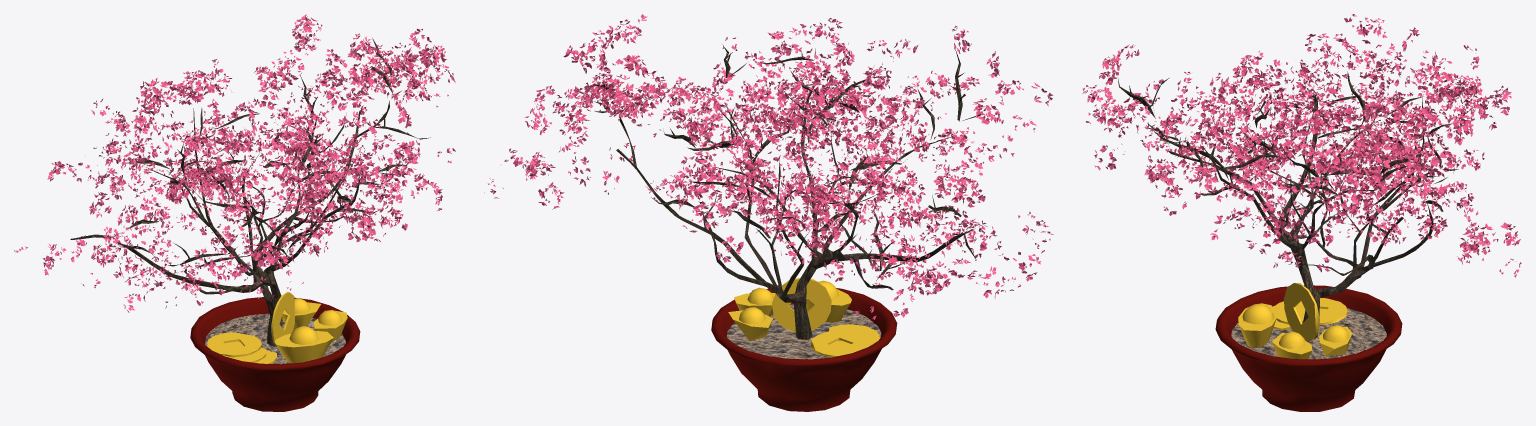
File: cay dao.fbx
3 renders of one model, left to right at view 1: azimuth 30°, elevation 25°; view 2: azimuth 150°, elevation 25°; view 3: azimuth 270°, elevation 25°, orthographic. The views are drawn at different scales.
Parts seen in each view (by area): view 1: G-Object.076; view 2: G-Object.076; view 3: G-Object.076.
Part boxes in pixels (<box>): G-Object.076: <box>14,14,455,411</box>; G-Object.076: <box>484,14,1053,411</box>; G-Object.076: <box>1082,14,1521,411</box>.
Size of the model in its own units: 620 by 439 by 486.
5 materials, 2 textured.
